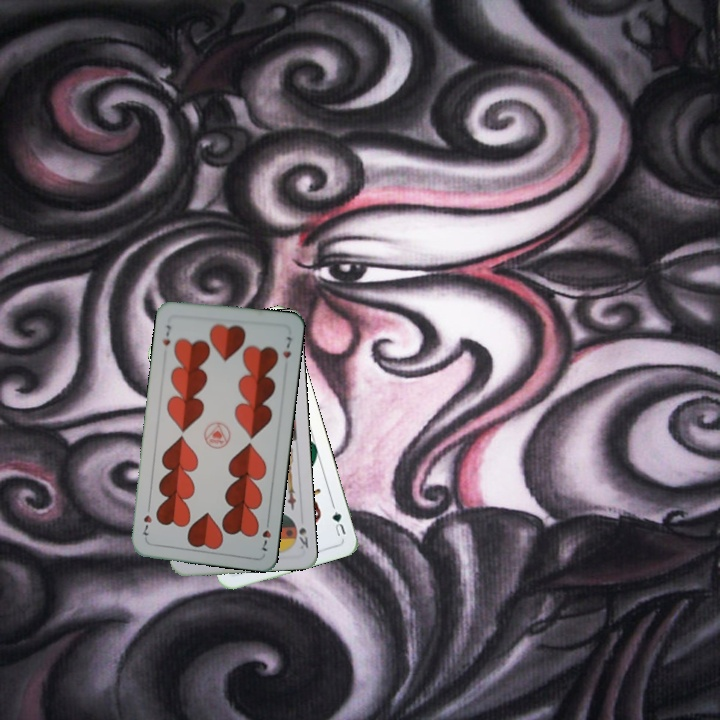GU: (328, 507, 348, 539)
H7: (257, 515, 274, 555), (159, 321, 173, 348)
SK: (295, 523, 311, 552)
